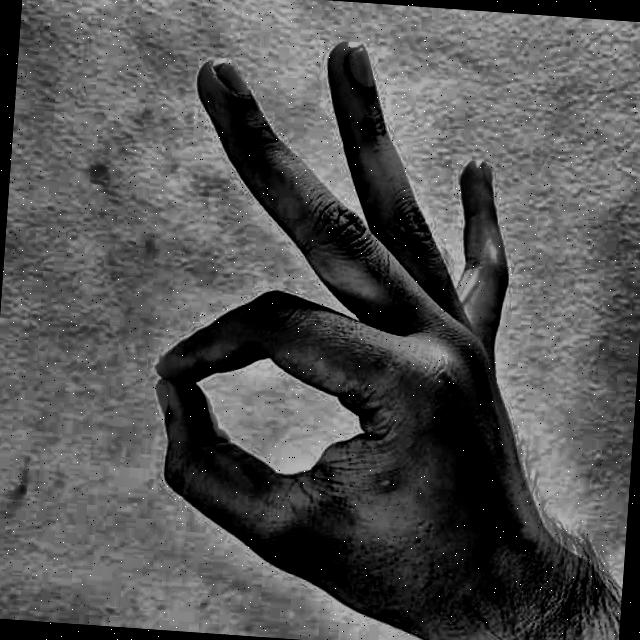Ca: (94, 10, 606, 640)
